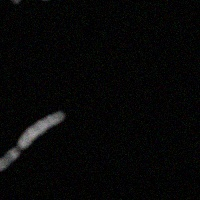chromosome: (0, 110, 65, 171), (12, 0, 48, 3)
